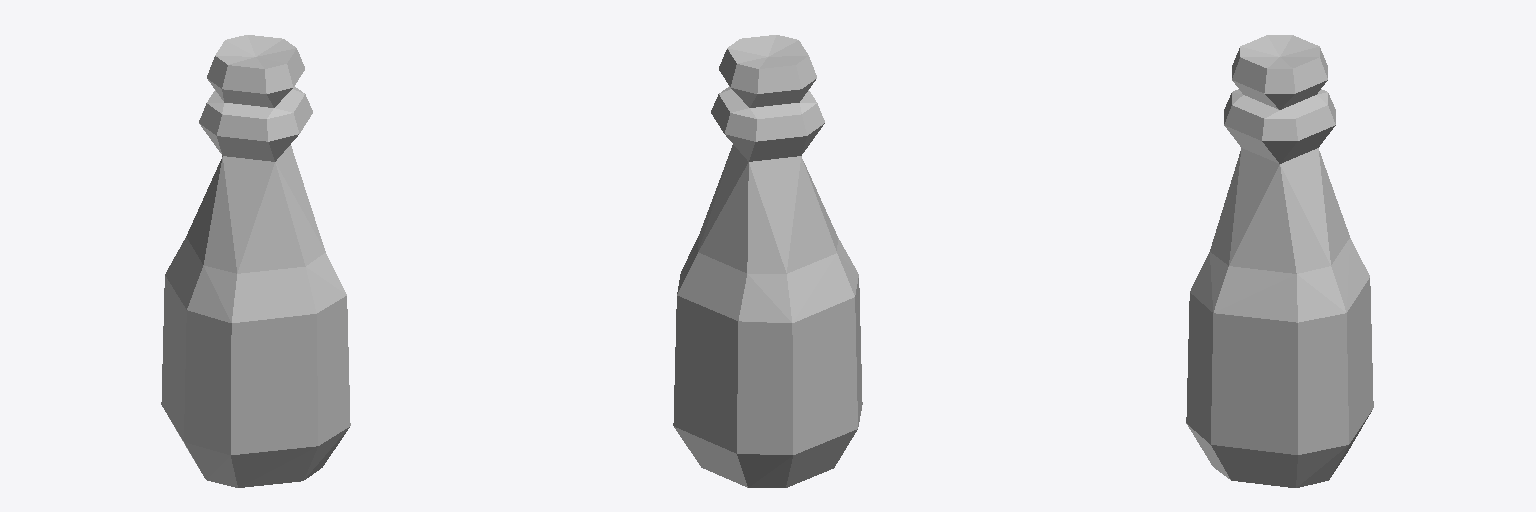
Rendered from bottle_A_brown.obj.
3 renders of one model, left to right at view 1: azimuth 30°, elevation 25°; view 2: azimuth 150°, elevation 25°; view 3: azimuth 270°, elevation 25°, orthographic.
Parts seen in each view (by area): view 1: bottle_A_brown_Cube.14531; view 2: bottle_A_brown_Cube.14531; view 3: bottle_A_brown_Cube.14531.
Boxes of the visible parts, box(x1,y1,x2,y2) form: bottle_A_brown_Cube.14531: box(161, 35, 350, 487); bottle_A_brown_Cube.14531: box(673, 35, 862, 487); bottle_A_brown_Cube.14531: box(1186, 35, 1373, 487).
Size of the model in its own units: 0.3684 by 0.8857 by 0.3684.